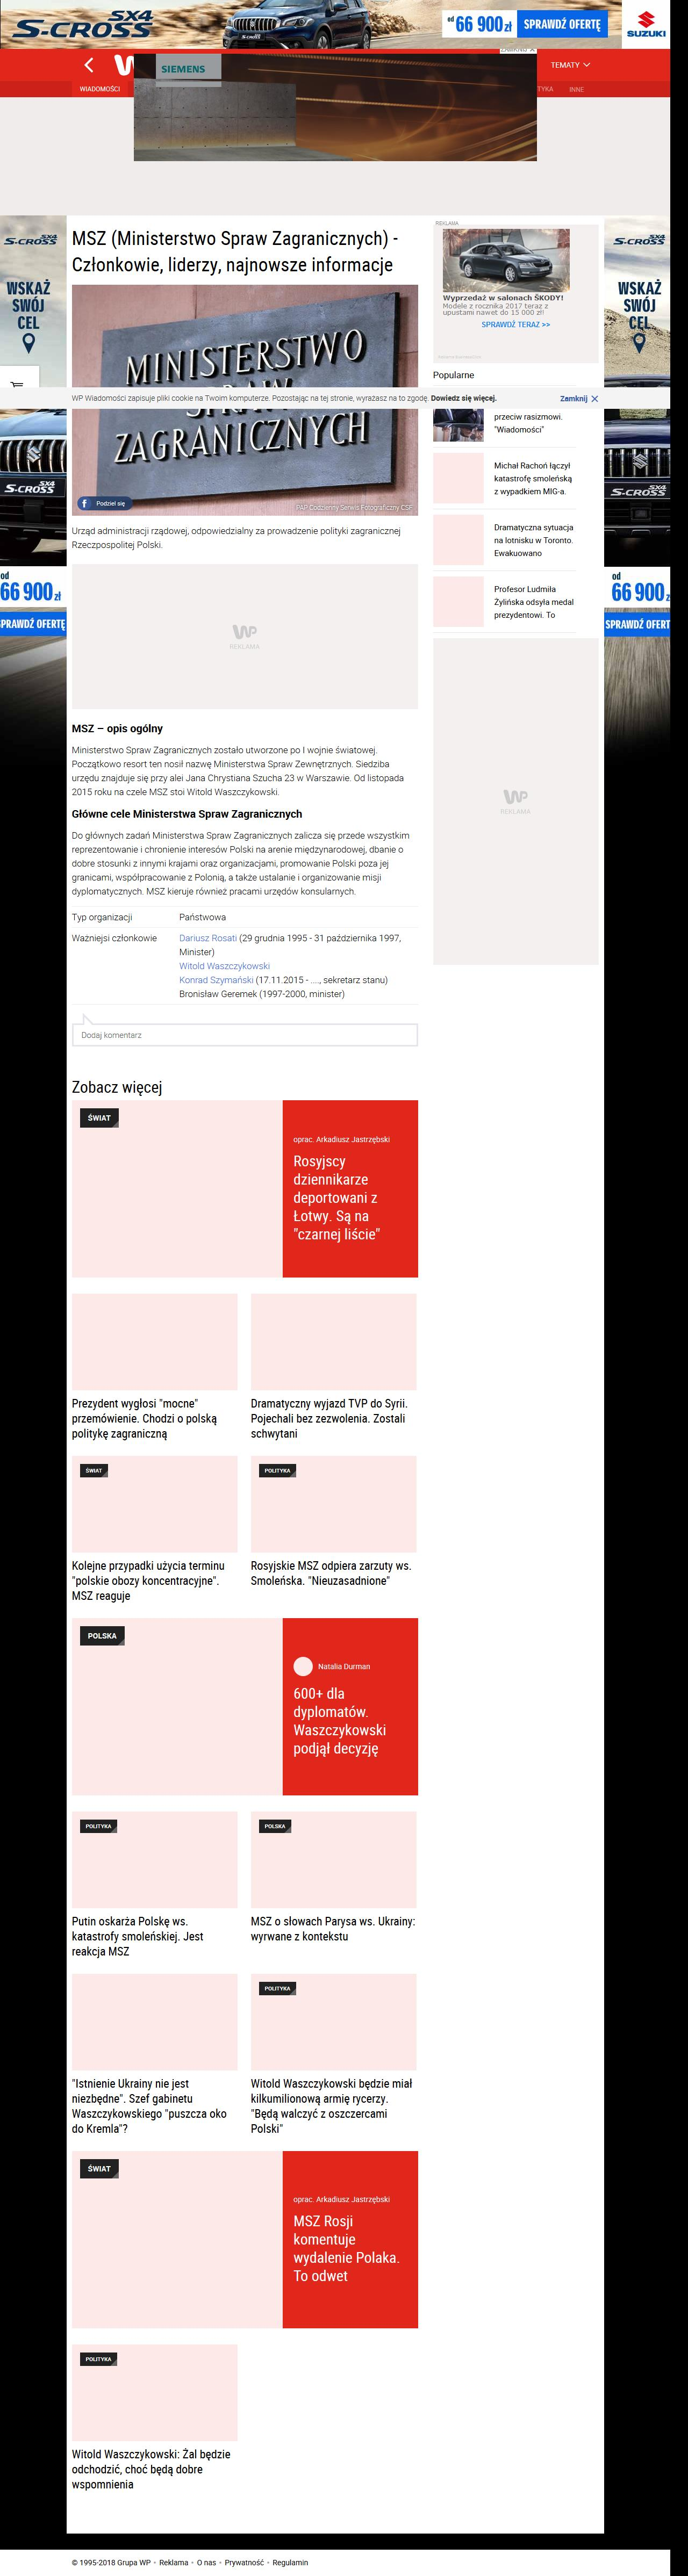title: (72, 230, 401, 278)
